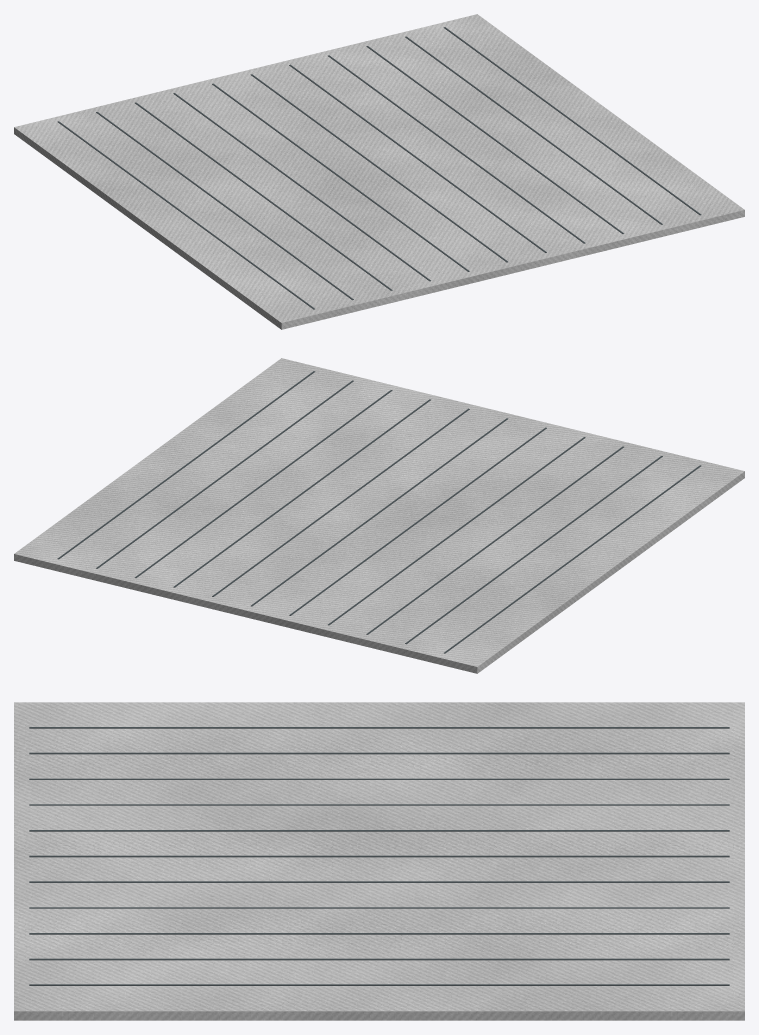
3 views of the same model, one above another, from view 1: azimuth 30°, elevation 25°; view 2: azimuth 150°, elevation 25°; view 3: azimuth 270°, elevation 25° (orthographic). The views are drawn at different scales.
Parts seen in each view (by area): view 1: mat_Rubber, mat_Steel; view 2: mat_Rubber, mat_Steel; view 3: mat_Rubber, mat_Steel.
Boxes of the visible parts, x1,y1,x2,y2 form: mat_Rubber: (14, 14, 744, 329); mat_Steel: (57, 27, 701, 309); mat_Rubber: (14, 358, 744, 673); mat_Steel: (57, 371, 701, 653); mat_Rubber: (14, 702, 744, 1020); mat_Steel: (29, 727, 729, 985).
Bounding box in the file's own units: 2.4 × 0.036 × 2.4.
Materials: 2 (1 with a texture image).
